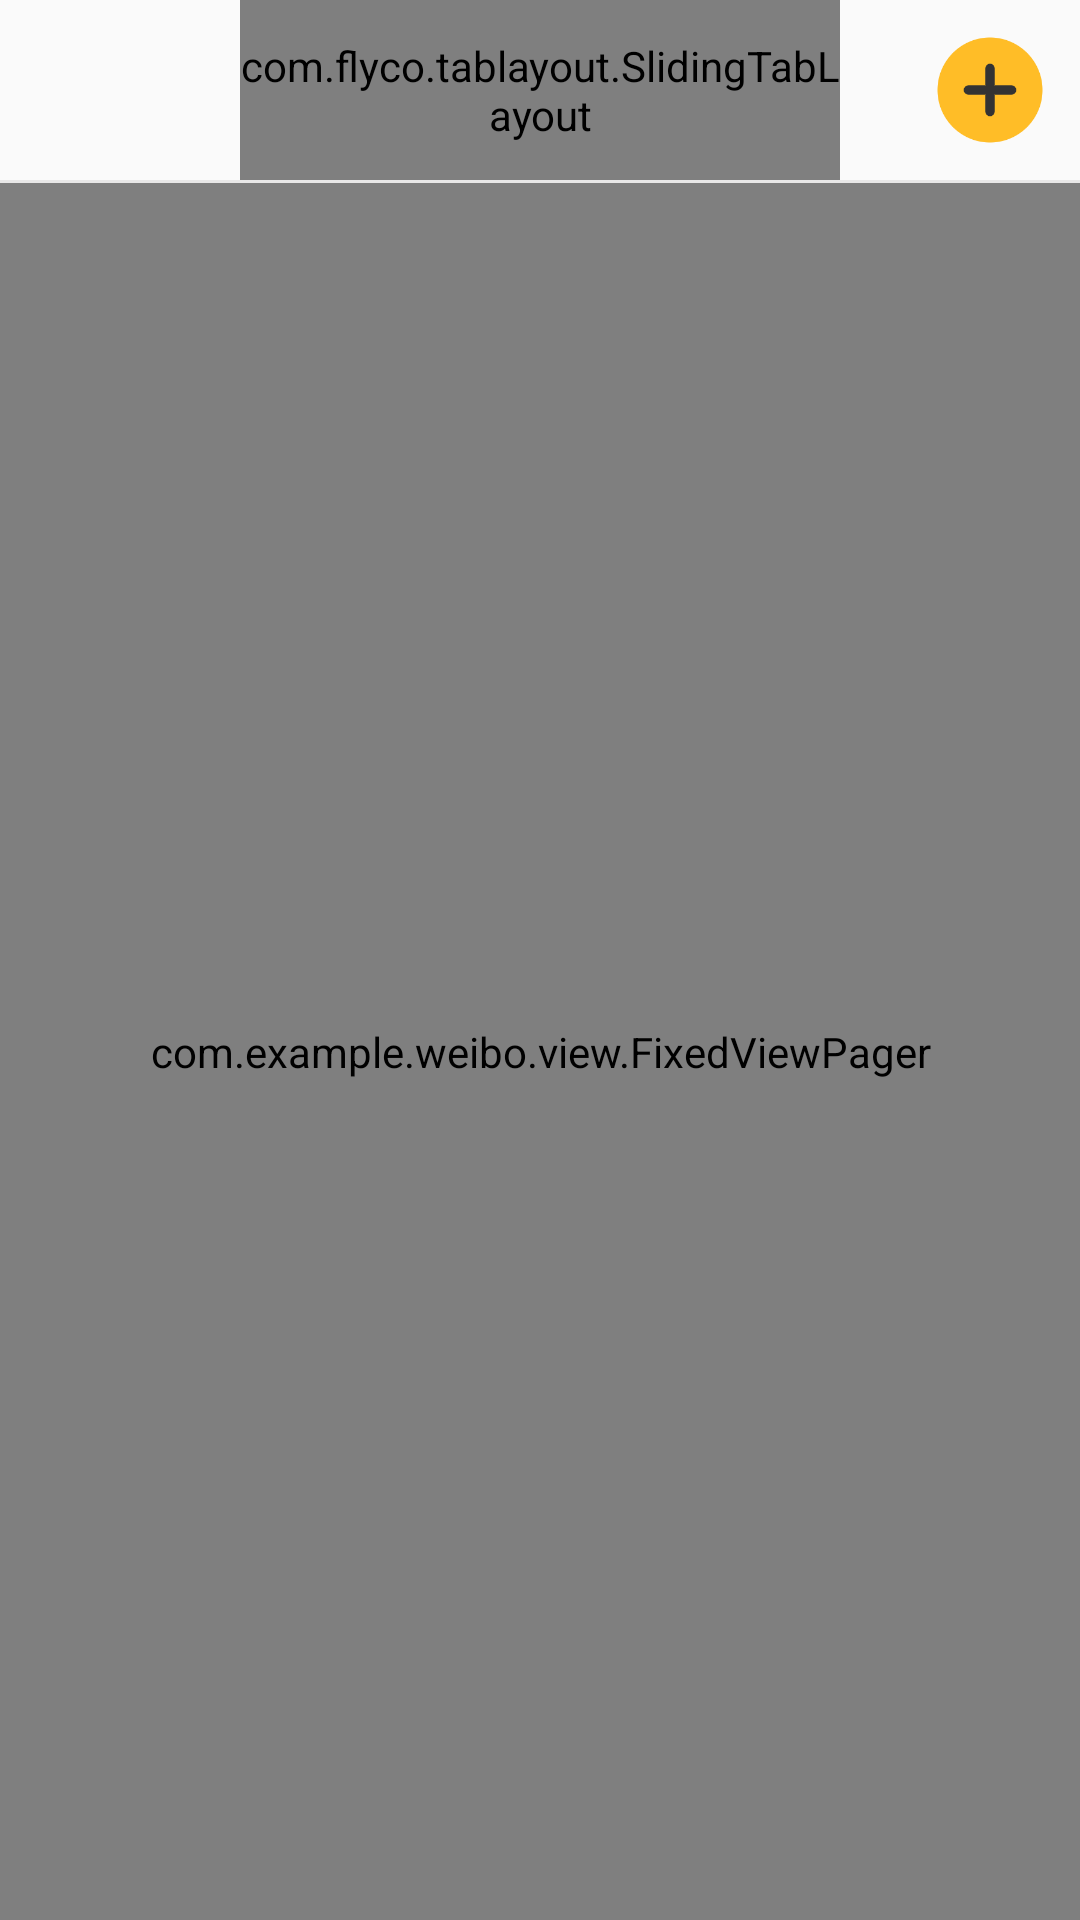

Named icons in this screenshot (1080px x 1920px) and their bounding boxes, (x1, y1, x2, y2):
add: (937, 37, 1043, 143)
